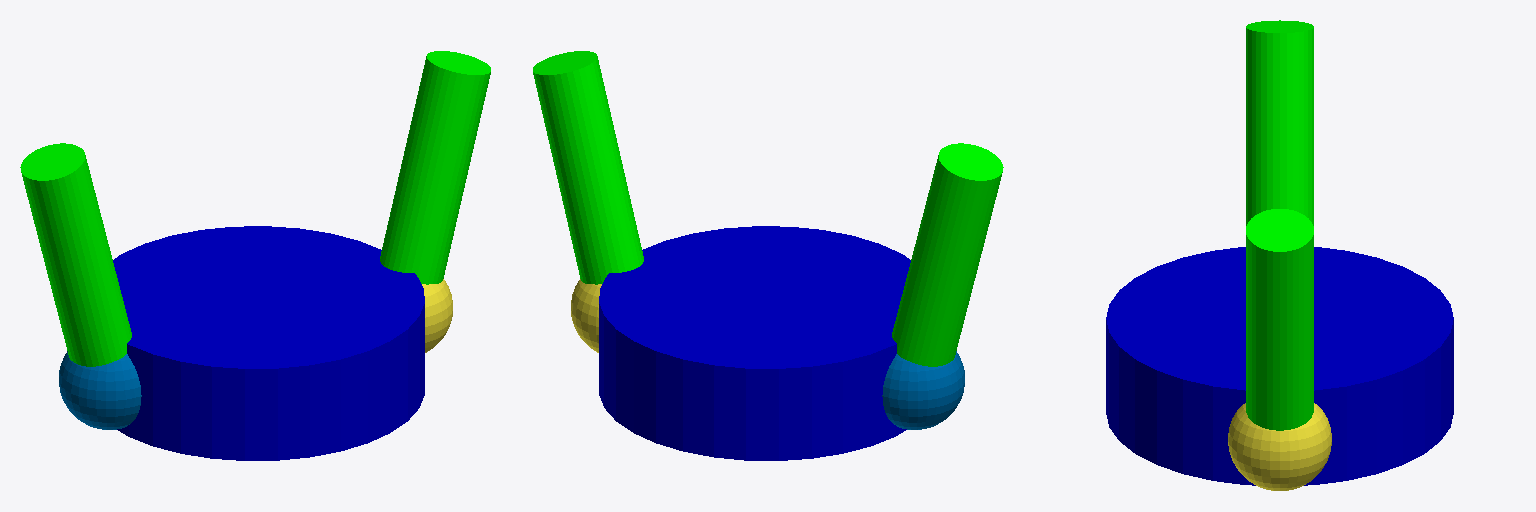
robot.urdf — gripper_2f_1j:
<?xml version='1.0' encoding='UTF-8'?>
<robot name="gripper_2f_1j">
  <link name="palm">
    <inertial>
      <origin xyz="0.0 0.0 0.0" rpy="0.0 -0.0 0.0"/>
      <mass value="1.0"/>
      <inertia ixx="1.0" ixy="0.0" ixz="0.0" iyy="1.0" iyz="0.0" izz="1.0"/>
    </inertial>
    <visual>
      <geometry>
        <cylinder radius="0.05" length="0.03"/>
      </geometry>
      <material name="blue"/>
      <origin xyz="0.0 0.0 0.0" rpy="0.0 -0.0 0.0"/>
    </visual>
    <collision>
      <geometry>
        <cylinder radius="0.05" length="0.03"/>
      </geometry>
      <origin xyz="0.0 0.0 0.0" rpy="0.0 0.0 0.0"/>
    </collision>
  </link>
  <link name="f11">
    <inertial>
      <origin xyz="0.0 0.0 0.0" rpy="0.0 -0.0 0.0"/>
      <mass value="1.0"/>
      <inertia ixx="1.0" ixy="0.0" ixz="0.0" iyy="1.0" iyz="0.0" izz="1.0"/>
    </inertial>
    <visual>
      <geometry>
        <cylinder radius="0.009835857065583193" length="0.07767547865094888"/>
      </geometry>
      <material name="green"/>
      <origin xyz="0.0 0.0 0.03883773932547444" rpy="0.0 -0.0 0.0"/>
    </visual>
    <collision>
      <geometry>
        <cylinder radius="0.009835857065583193" length="0.07767547865094888"/>
      </geometry>
      <origin xyz="0.0 0.0 0.05" rpy="0.0 0.0 0.0"/>
    </collision>
  </link>
  <link name="f21">
    <inertial>
      <origin xyz="0.0 0.0 0.0" rpy="0.0 -0.0 0.0"/>
      <mass value="1.0"/>
      <inertia ixx="1.0" ixy="0.0" ixz="0.0" iyy="1.0" iyz="0.0" izz="1.0"/>
    </inertial>
    <visual>
      <geometry>
        <cylinder radius="0.009835857065583193" length="0.07767547865094888"/>
      </geometry>
      <material name="green"/>
      <origin xyz="0.0 0.0 0.03883773932547444" rpy="0.0 -0.0 0.0"/>
    </visual>
    <collision>
      <geometry>
        <cylinder radius="0.009835857065583193" length="0.07767547865094888"/>
      </geometry>
      <origin xyz="0.0 0.0 0.05" rpy="0.0 0.0 0.0"/>
    </collision>
  </link>
  <link name="f11_base">
    <inertial>
      <origin xyz="0.0 0.0 0.0" rpy="0.0 -0.0 0.0"/>
      <mass value="1.0"/>
      <inertia ixx="1.0" ixy="0.0" ixz="0.0" iyy="1.0" iyz="0.0" izz="1.0"/>
    </inertial>
    <visual>
      <geometry>
        <sphere radius="0.015"/>
      </geometry>
      <origin xyz="0.0 0.0 0.0" rpy="0.0 -0.0 0.0"/>
    </visual>
  </link>
  <link name="f21_base">
    <inertial>
      <origin xyz="0.0 0.0 0.0" rpy="0.0 -0.0 0.0"/>
      <mass value="1.0"/>
      <inertia ixx="1.0" ixy="0.0" ixz="0.0" iyy="1.0" iyz="0.0" izz="1.0"/>
    </inertial>
    <visual>
      <geometry>
        <sphere radius="0.015"/>
      </geometry>
      <origin xyz="0.0 0.0 0.0" rpy="0.0 -0.0 0.0"/>
    </visual>
  </link>
  <joint name="f11_joint" type="revolute">
    <dynamics damping="100.0" friction="1.0"/>
    <limit effort="30.0" velocity="2.0" lower="-0.6" upper="0.25"/>
    <parent link="f11_base"/>
    <child link="f11"/>
    <axis xyz="0. 1. 0."/>
    <origin xyz="0.0 0.0 0.0" rpy="0.0 0.25 0.0"/>
  </joint>
  <joint name="f21_joint" type="revolute">
    <dynamics damping="100.0" friction="1.0"/>
    <limit effort="30.0" velocity="2.0" lower="-0.6" upper="0.25"/>
    <parent link="f21_base"/>
    <child link="f21"/>
    <axis xyz=" 0. -1.  0."/>
    <origin xyz="0.0 0.0 0.0" rpy="0.0 -0.25 0.0"/>
  </joint>
  <joint name="f11_base_joint" type="fixed">
    <parent link="palm"/>
    <child link="f11_base"/>
    <axis xyz="1. 0. 0."/>
    <origin xyz="0.05 0.0 0.0" rpy="0.0 0.0 0.0"/>
  </joint>
  <joint name="f21_base_joint" type="fixed">
    <parent link="palm"/>
    <child link="f21_base"/>
    <axis xyz="1. 0. 0."/>
    <origin xyz="-0.05 -0.0 0.0" rpy="0.0 0.0 0.0"/>
  </joint>
  <material name="blue">
    <color rgba="0.  0.  0.8 1. "/>
  </material>
  <material name="green">
    <color rgba="0. 1. 0. 1."/>
  </material>
</robot>

--- Render facts (derived) ---
The picture shows the robot from 3 angles, left to right: view 1: azimuth 30°, elevation 25°; view 2: azimuth 150°, elevation 25°; view 3: azimuth 270°, elevation 25°; orthographic projection.
Robot: gripper_2f_1j — 5 links, 4 joints (2 revolute, 2 fixed); root link palm; default pose: all joints at 0.
Links seen in each view (by area): view 1: palm, f11, f21, f21_base, f11_base; view 2: palm, f11, f21, f21_base, f11_base; view 3: palm, f11, f21, f11_base.
Boxes of the visible links, x1,y1,x2,y2 form: palm: [113, 226, 424, 460]; f11: [380, 51, 490, 284]; f21: [20, 143, 131, 366]; f21_base: [59, 351, 141, 429]; f11_base: [422, 279, 452, 352]; palm: [599, 226, 910, 460]; f11: [533, 51, 643, 284]; f21: [892, 143, 1003, 366]; f21_base: [882, 351, 964, 429]; f11_base: [571, 279, 601, 352]; palm: [1106, 247, 1453, 485]; f11: [1246, 209, 1313, 430]; f21: [1246, 20, 1313, 225]; f11_base: [1228, 403, 1331, 490].
Bounding box of the posed robot: 0.1575 × 0.1 × 0.0927 m (x, y, z).
Geometry: primitives only (box / cylinder / sphere), no mesh files.